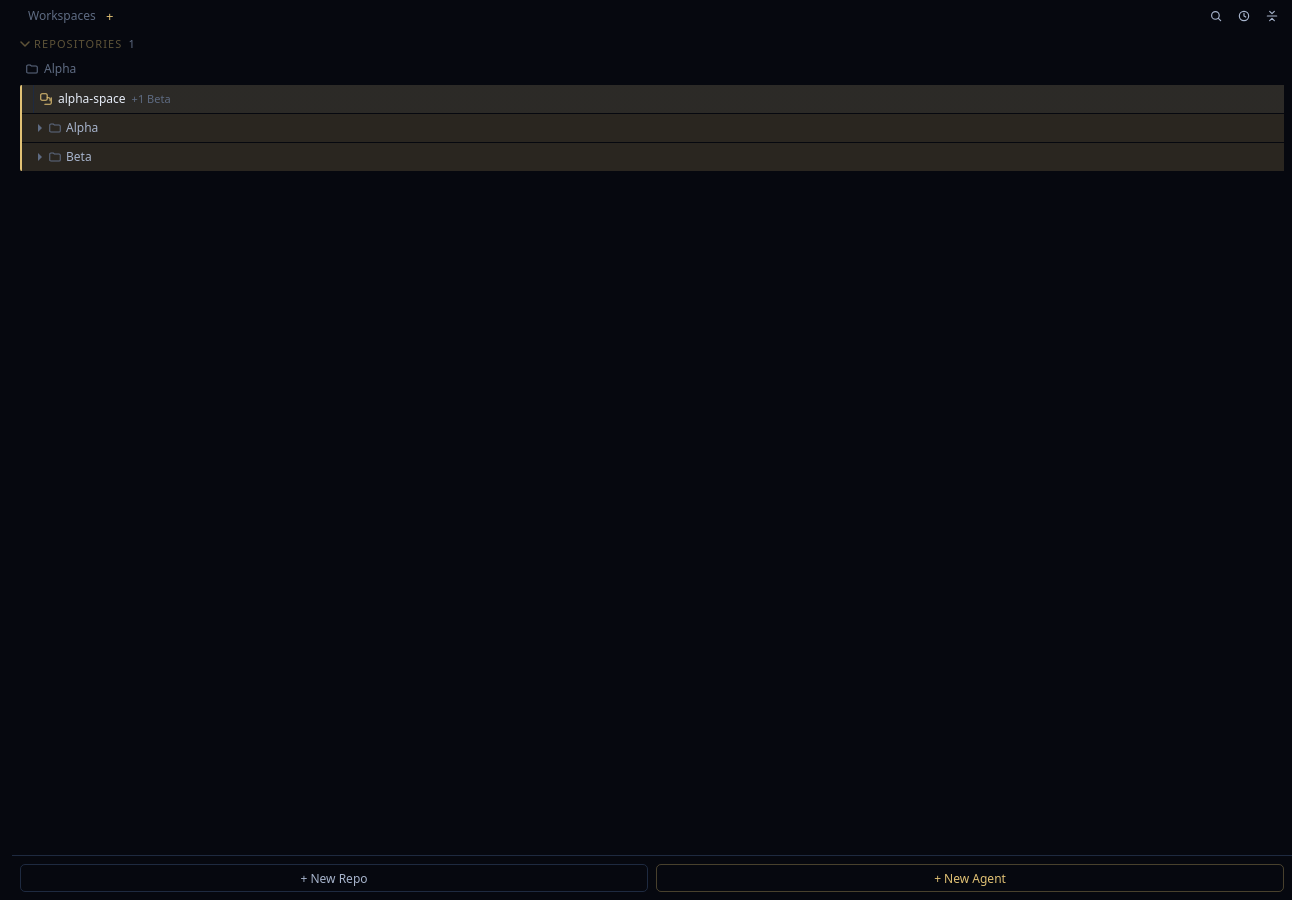
Test case: WorkspaceRepoRow context menu › Copy Path writes the folder's absolute path
Right-click the 2nd text "Alpha": (82, 128) [66,120,98,136]
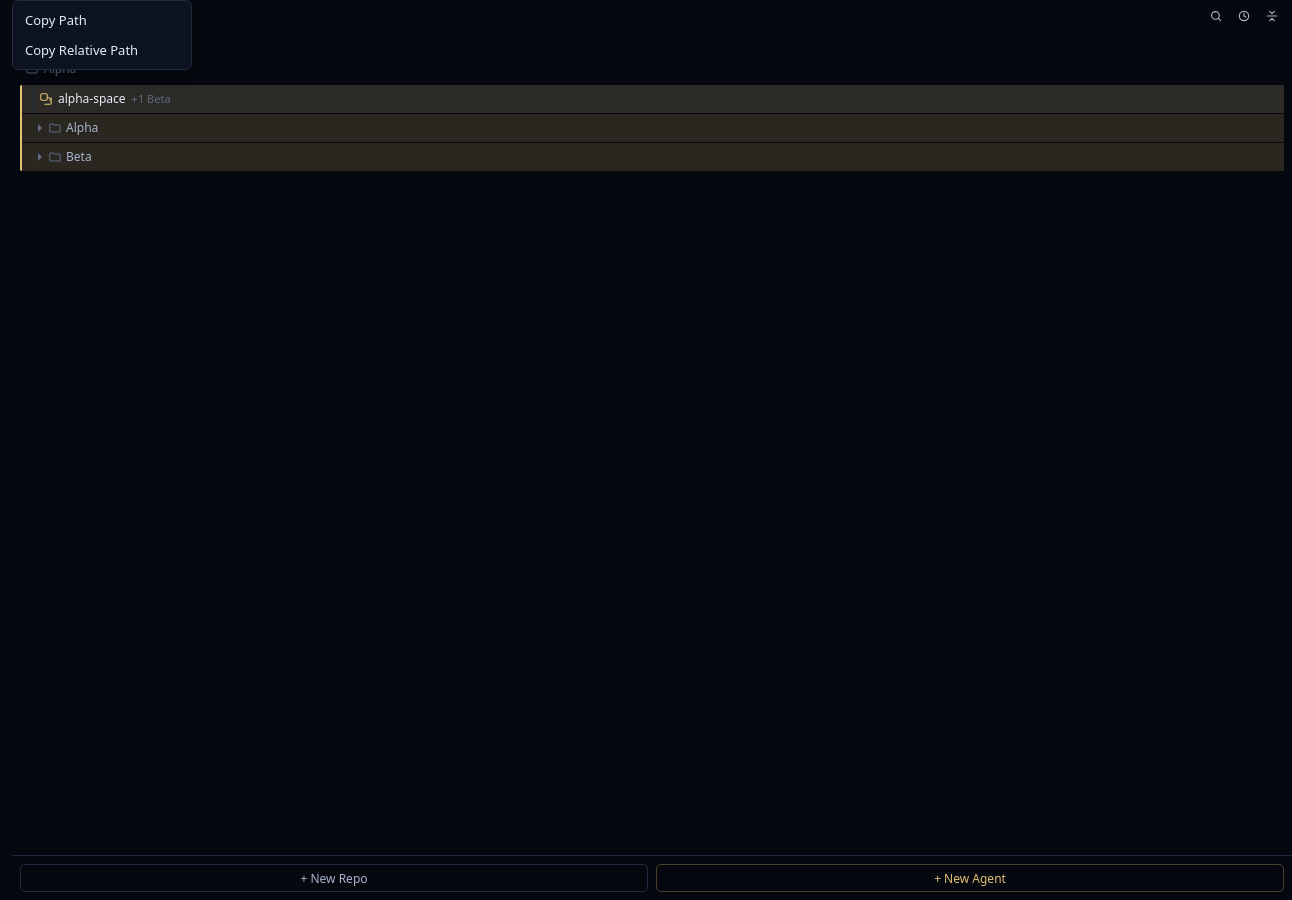
Click the text "Copy Path": (56, 20) [25,11,87,29]
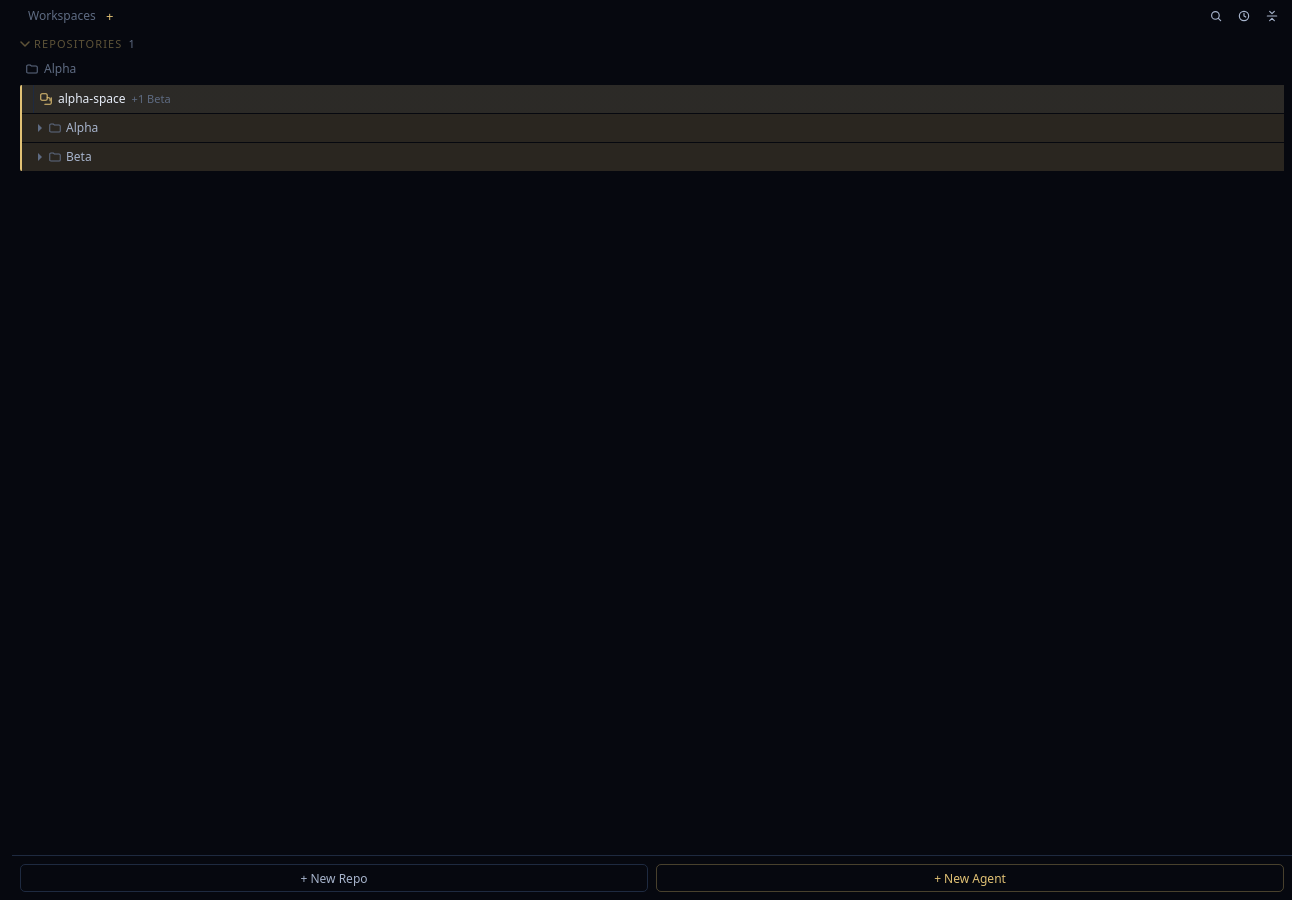
Result: the text "Copy Path" is gone
